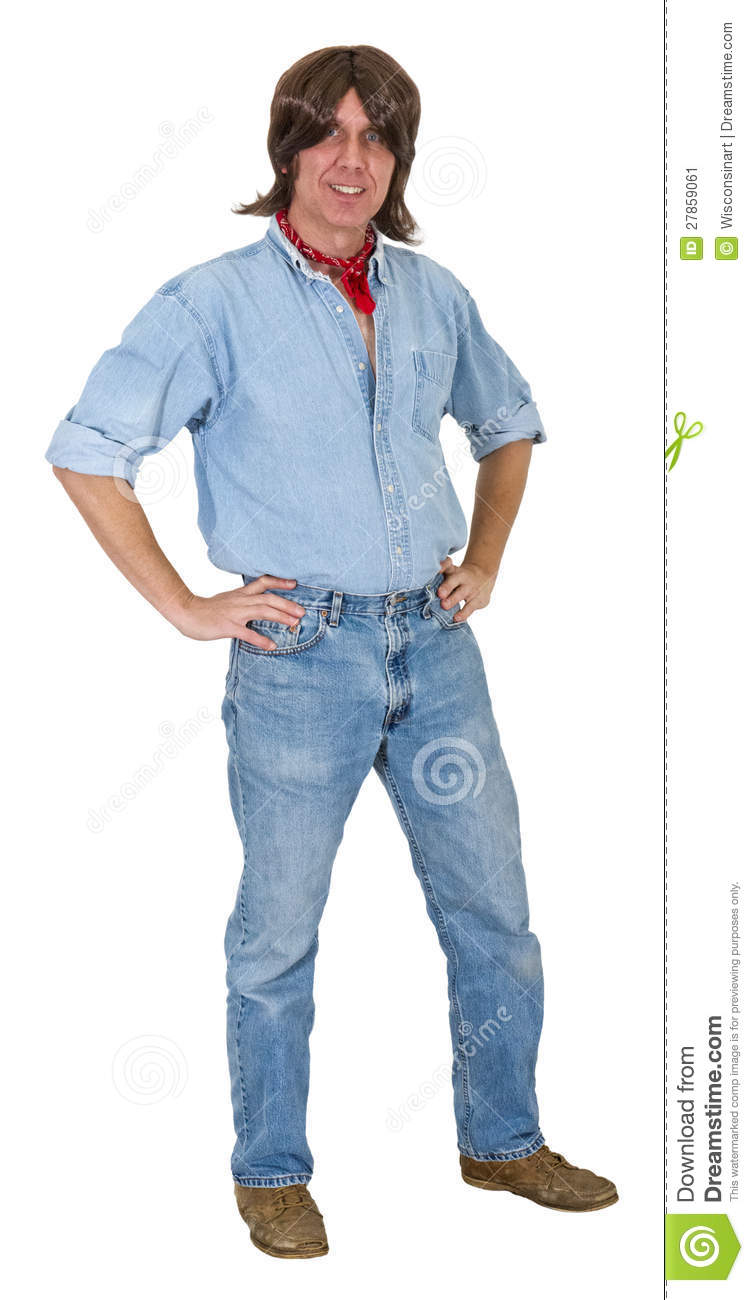person: (53, 47, 618, 1256)
